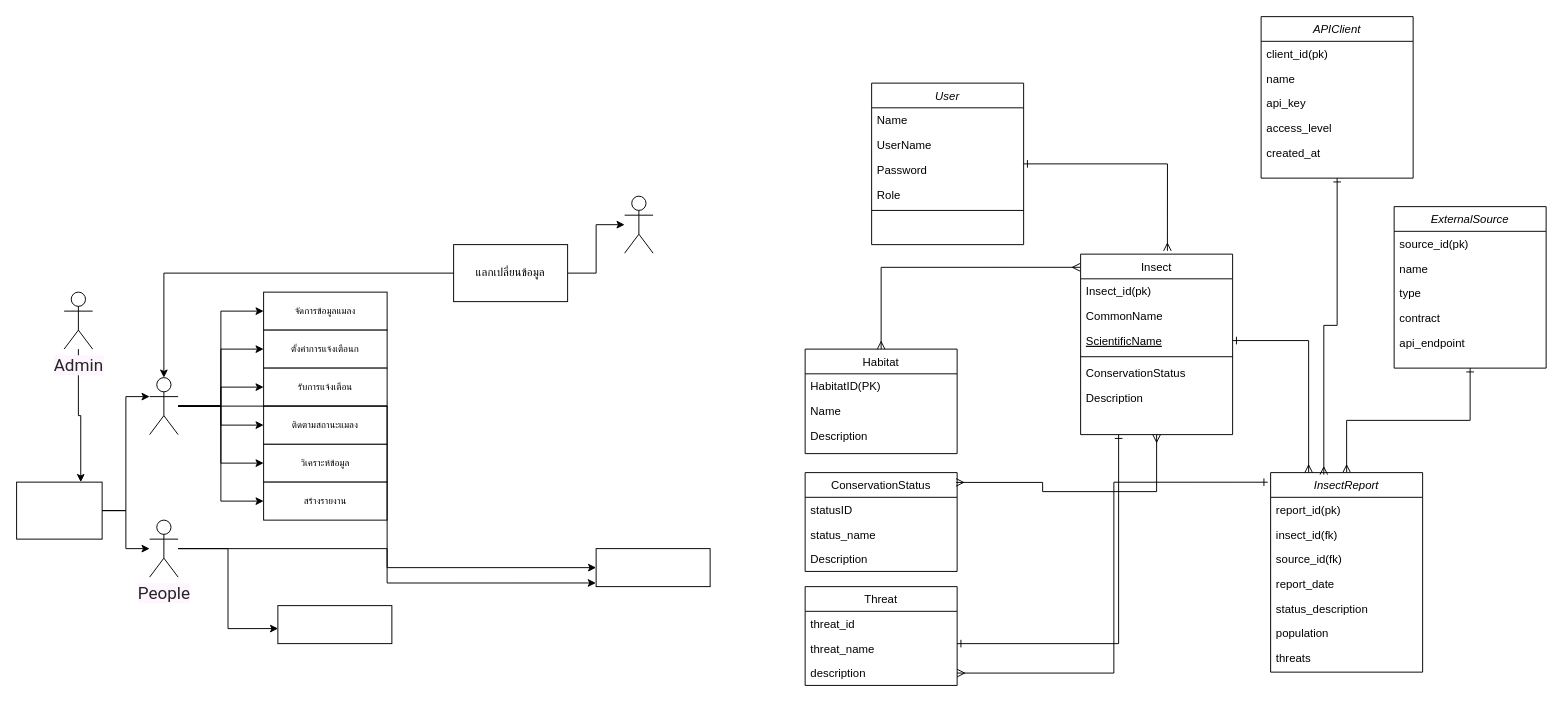
This 1563x705 diagram has some shape labels left out. Each missing label, with the centre of its shape:
"Extenal Agency" belongs at (638,224).
"Researchers" belongs at (163,406).
"ดูข้อมูลสาธารณะ" belongs at (334,624).
"ดูแลระบบโดยรวม" belongs at (59,510).
"รายงานการพบเห็น" belongs at (652,567).
